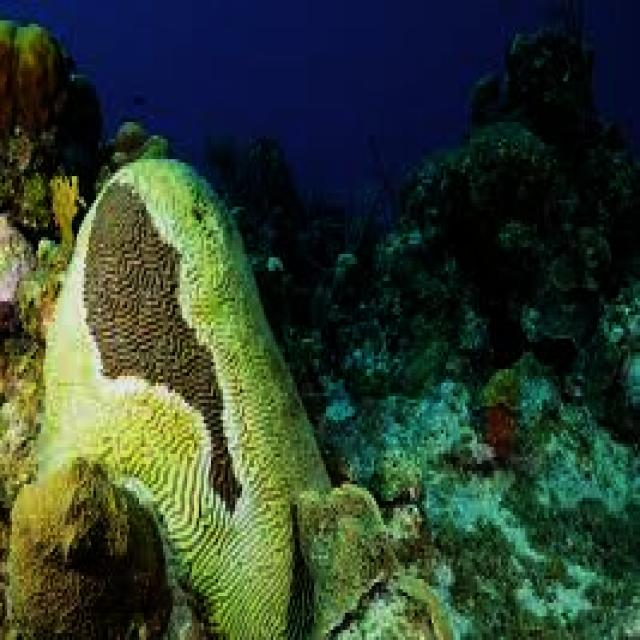Coral: (38, 157, 390, 640), (2, 456, 192, 640)
